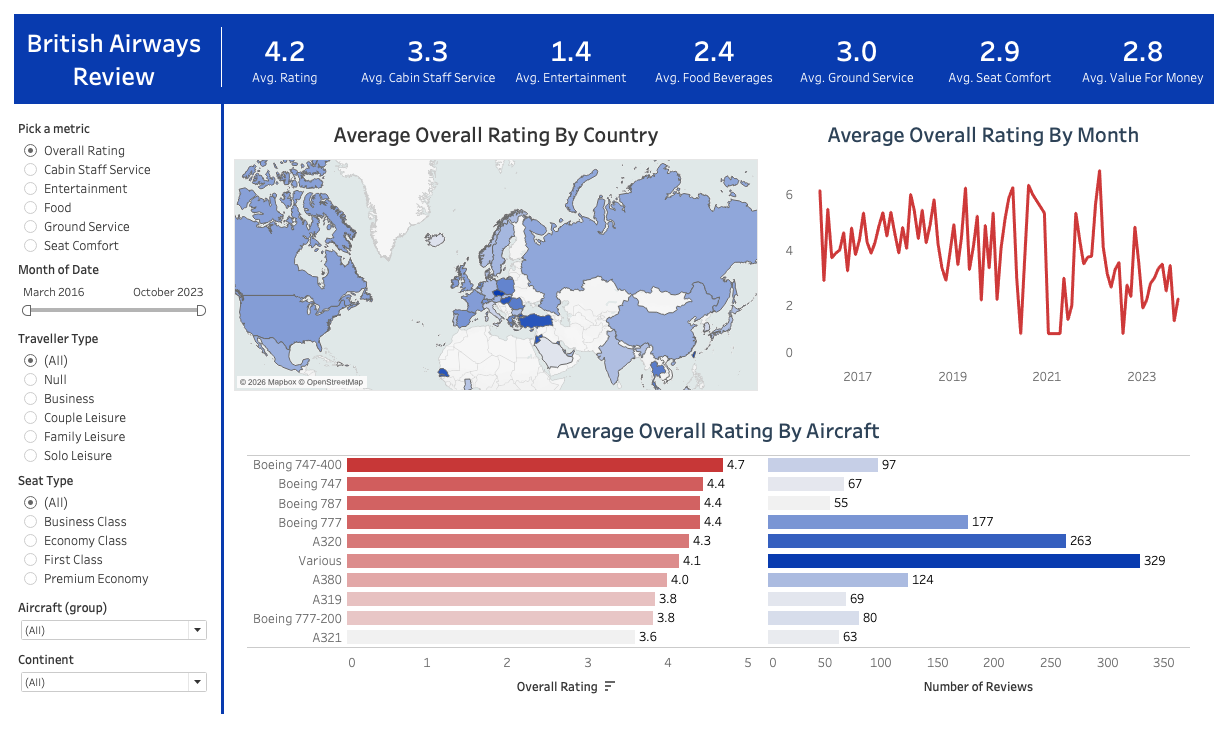

This screenshot's page, from the dashboard's own definition file:
{"tool":"tableau","page":{"name":"Dashboard 1","canvas":[1200,700],"ordinal":0},"visuals":[{"type":"text","box":[0,0,200,90]},{"type":"worksheet","title":"Summary","mark":"Automatic","box":[200,0,1000,90]},{"type":"blank","box":[207,13,1,60]},{"type":"blank","box":[207,90,3,610]},{"type":"parameter","param":"[Parameters].[Parameter 1]","box":[0,102,200,141.5]},{"type":"worksheet","title":"Map","mark":"Automatic","box":[220,102,524,275]},{"type":"worksheet","title":"Month","mark":"Automatic","rows":["Calculation_3467771760162582528"],"cols":["date"],"box":[756,102,427,275]},{"type":"filter","title":"Map","param":"[federated.0qziagn1i92vqr1c5ryld19h7eza].[tmn:date:qk]","box":[0,243.5,200,69]},{"type":"filter","title":"Map","param":"[federated.0qziagn1i92vqr1c5ryld19h7eza].[none:traveller_type:nk]","box":[0,312.5,200,141.5]},{"type":"worksheet","title":"Aircraft","mark":"Automatic","cols":["Calculation_3467771760162582528","ba_reviews.csv_6989A1CF185F4CBCB782B4707B19ACCE"],"box":[233,398,943,291]},{"type":"filter","title":"Map","param":"[federated.0qziagn1i92vqr1c5ryld19h7eza].[none:seat_type:nk]","box":[0,454,200,127]},{"type":"filter","title":"Map","param":"[federated.0qziagn1i92vqr1c5ryld19h7eza].[Aircraft (group)]","box":[0,581,200,52]},{"type":"filter","title":"Map","param":"[federated.0qziagn1i92vqr1c5ryld19h7eza].[none:Continent:nk]","box":[0,633,200,52]}]}

Visuals, with their boxes in screenshot pixels (x1, y1, x2, y2), scaled from the page's 1200x700 canvas onto the 1229x731 screenshot:
text: [left=0, top=0, right=205, bottom=94]
"Summary" worksheet: [left=205, top=0, right=1228, bottom=94]
blank: [left=212, top=14, right=213, bottom=76]
blank: [left=212, top=94, right=215, bottom=730]
parameter: [left=0, top=107, right=205, bottom=254]
"Map" worksheet: [left=225, top=107, right=762, bottom=394]
"Month" worksheet: [left=774, top=107, right=1212, bottom=394]
"Map" filter: [left=0, top=254, right=205, bottom=326]
"Map" filter: [left=0, top=326, right=205, bottom=474]
"Aircraft" worksheet: [left=239, top=416, right=1204, bottom=720]
"Map" filter: [left=0, top=474, right=205, bottom=607]
"Map" filter: [left=0, top=607, right=205, bottom=661]
"Map" filter: [left=0, top=661, right=205, bottom=715]
